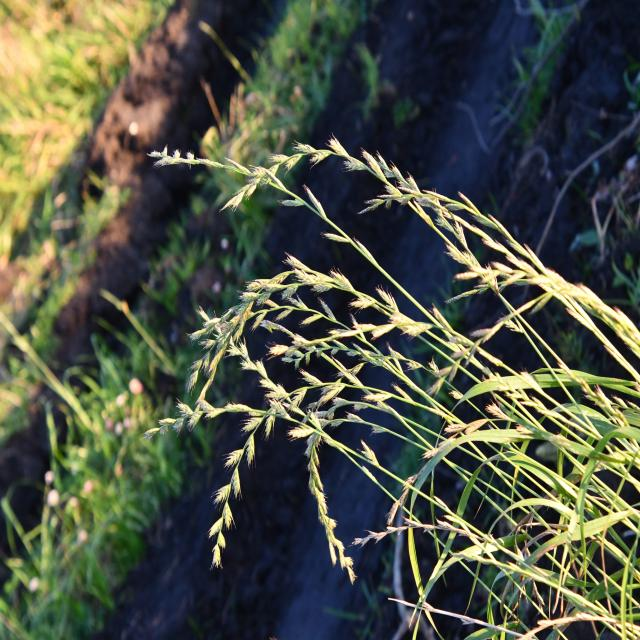Lolium: (149, 115, 640, 640), (184, 258, 340, 419), (207, 389, 290, 567), (151, 138, 327, 214), (364, 152, 468, 252)
